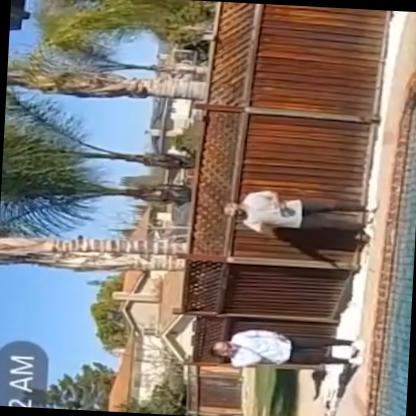Human Body: (218, 182, 382, 246), (204, 322, 364, 376)
